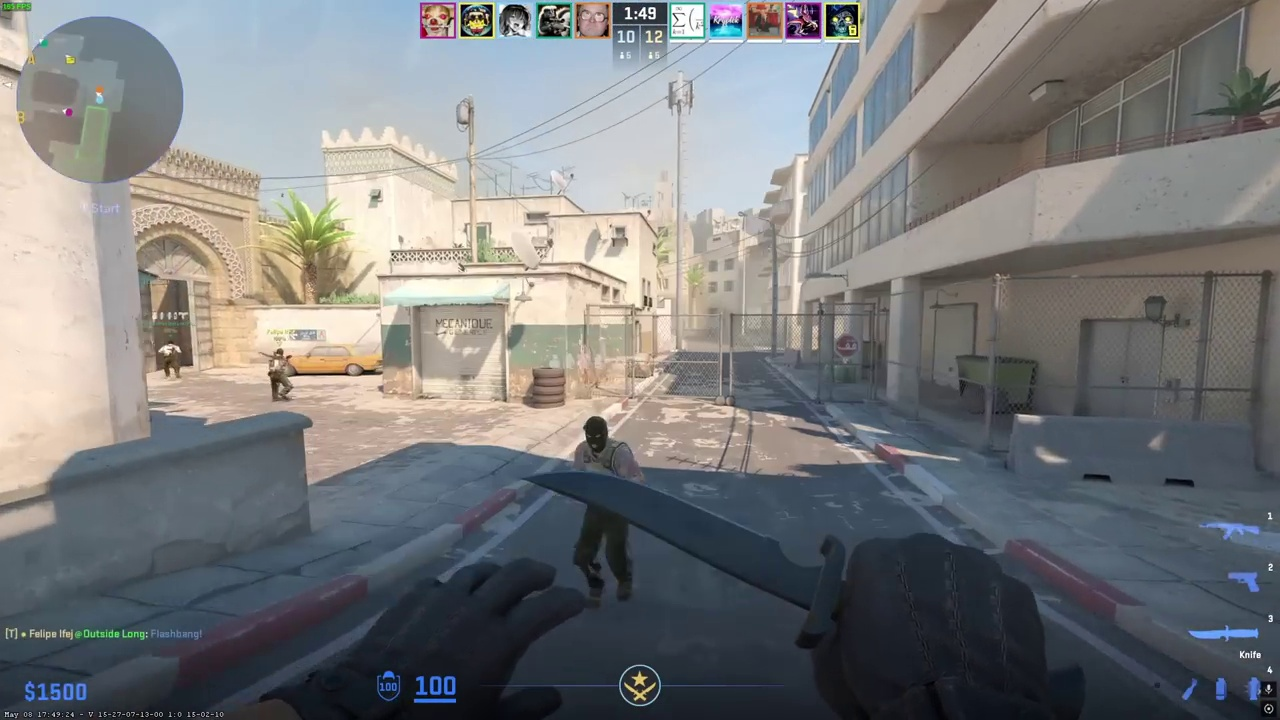Terrorist: (568, 416, 641, 611), (268, 348, 293, 402), (161, 340, 181, 378)
